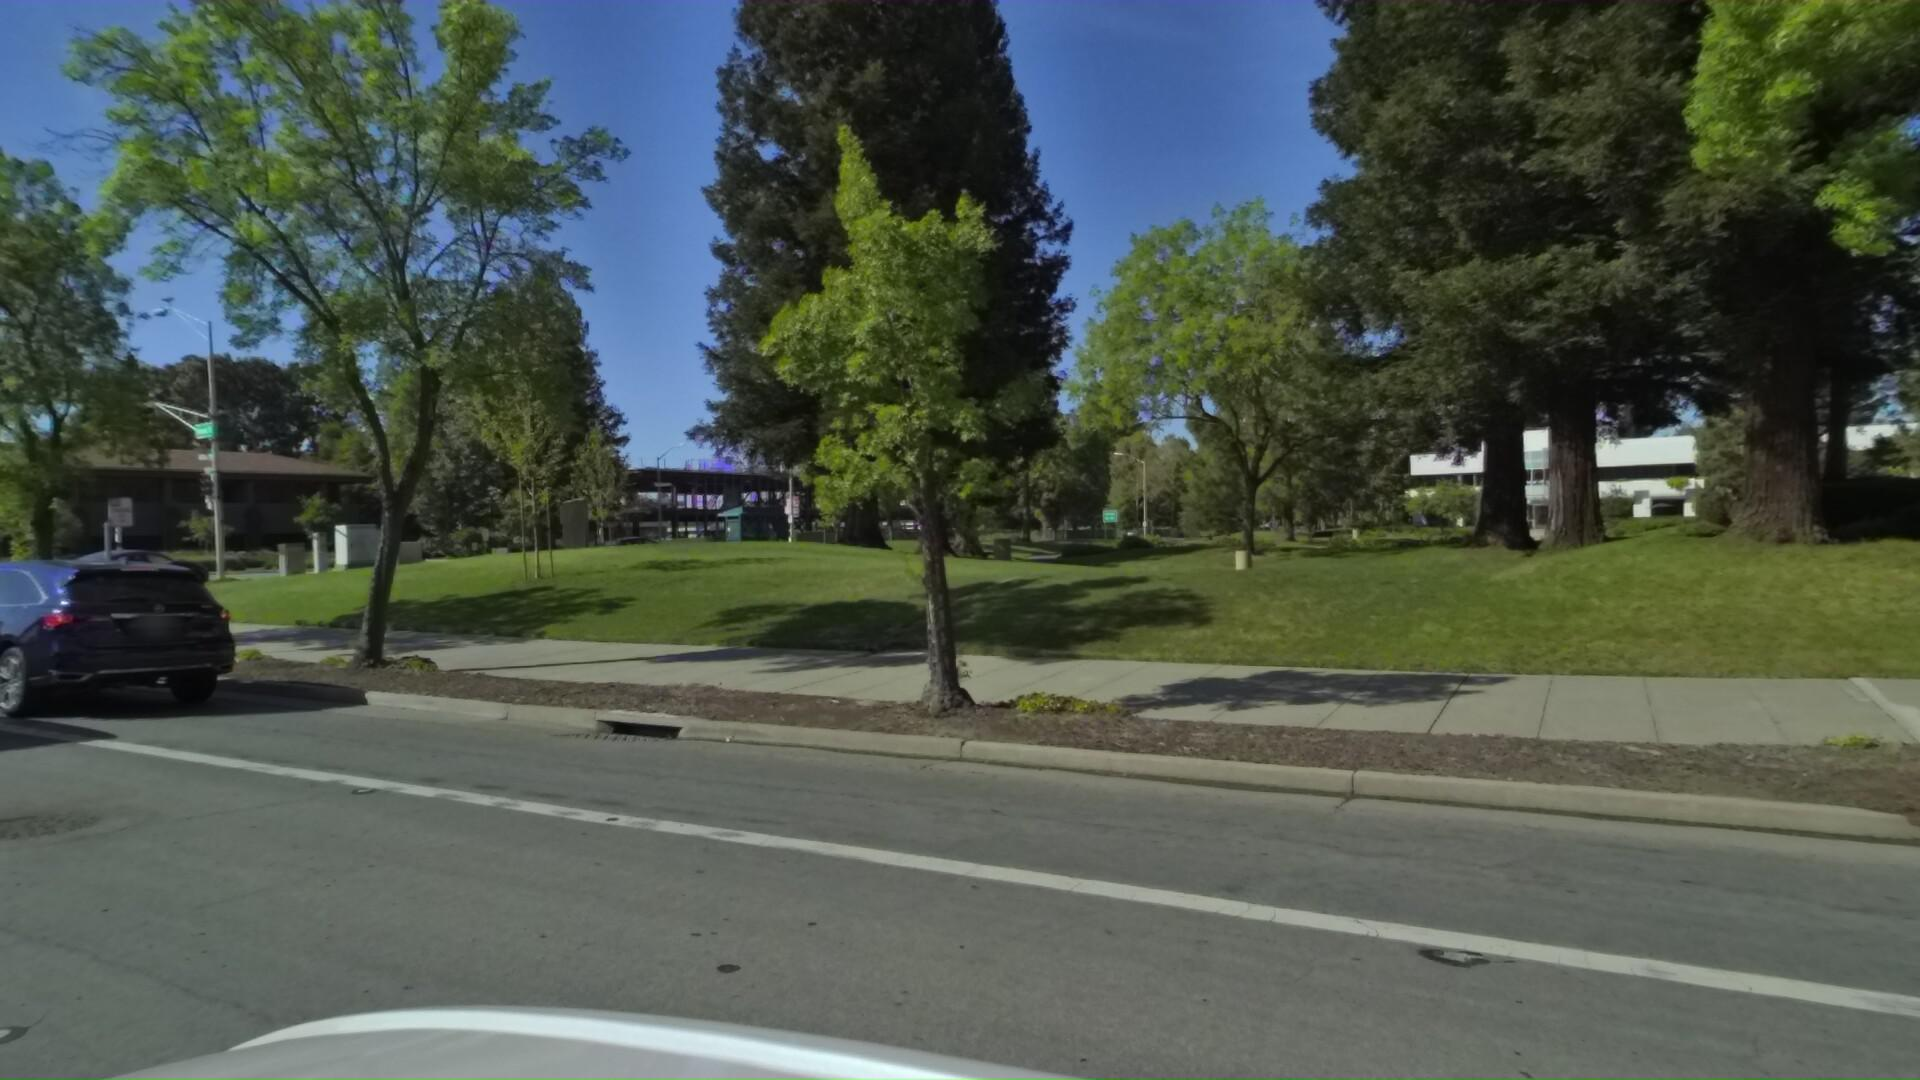car: (0, 545, 252, 731), (59, 543, 219, 592)
